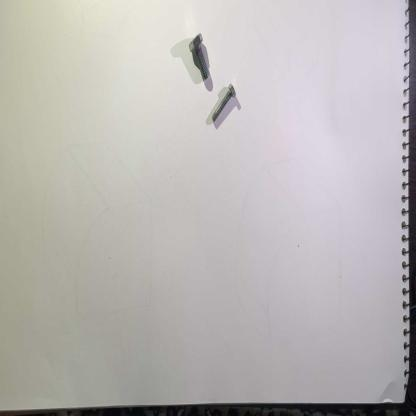Bolts: (208, 80, 239, 133), (189, 28, 211, 85)
